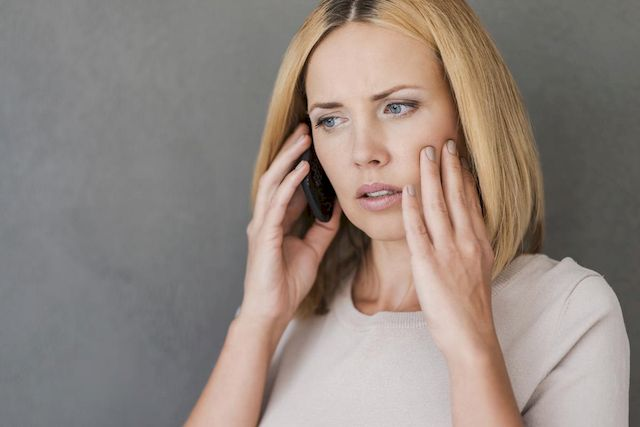phone: (278, 128, 341, 231)
talk: (239, 77, 460, 302)
